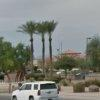Palm tree: (15, 12, 52, 67)
